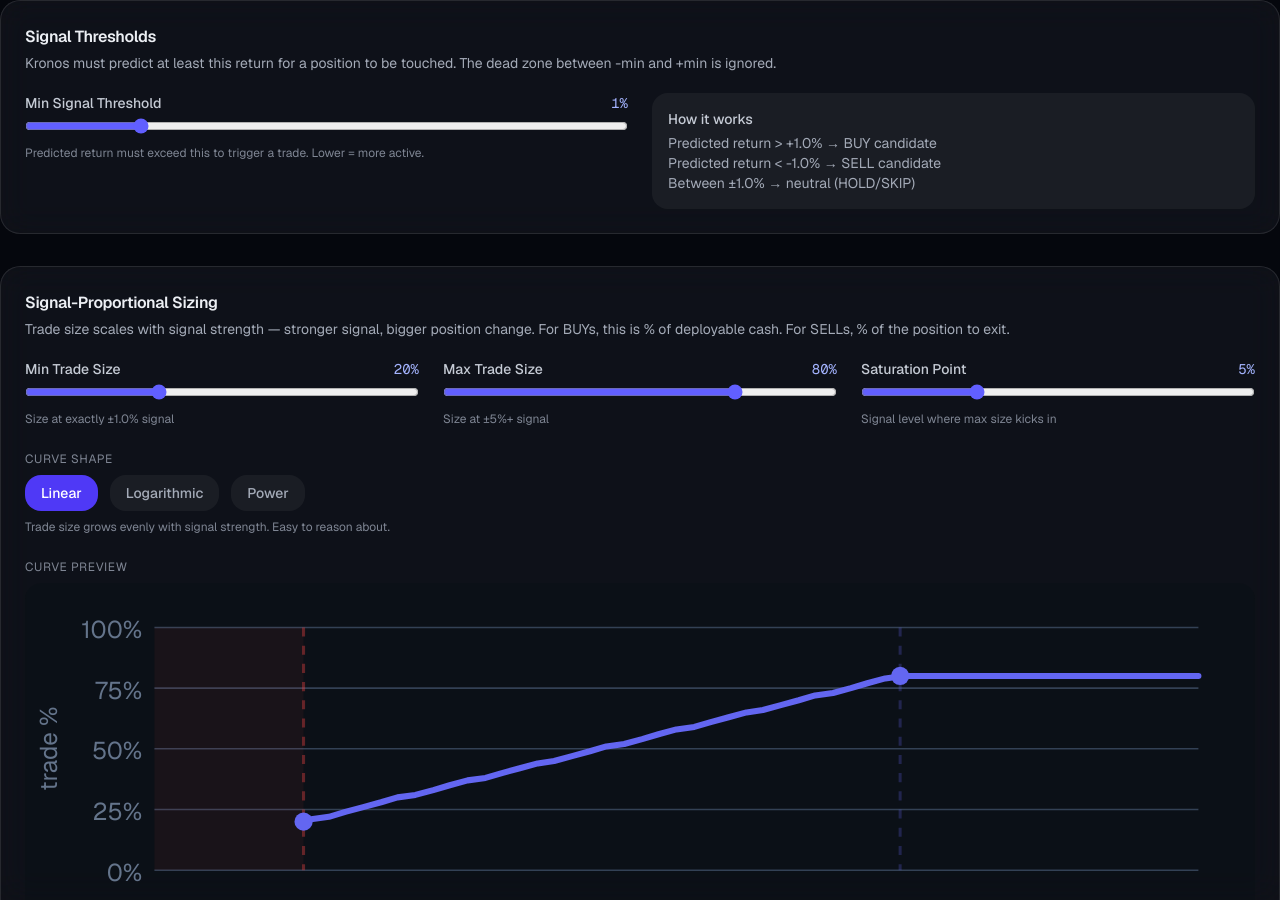
Test: KronosTunePanel › curve type buttons toggle correctly
# Click Power button
Click the button "Power" at (268, 493), box [231, 475, 305, 511]
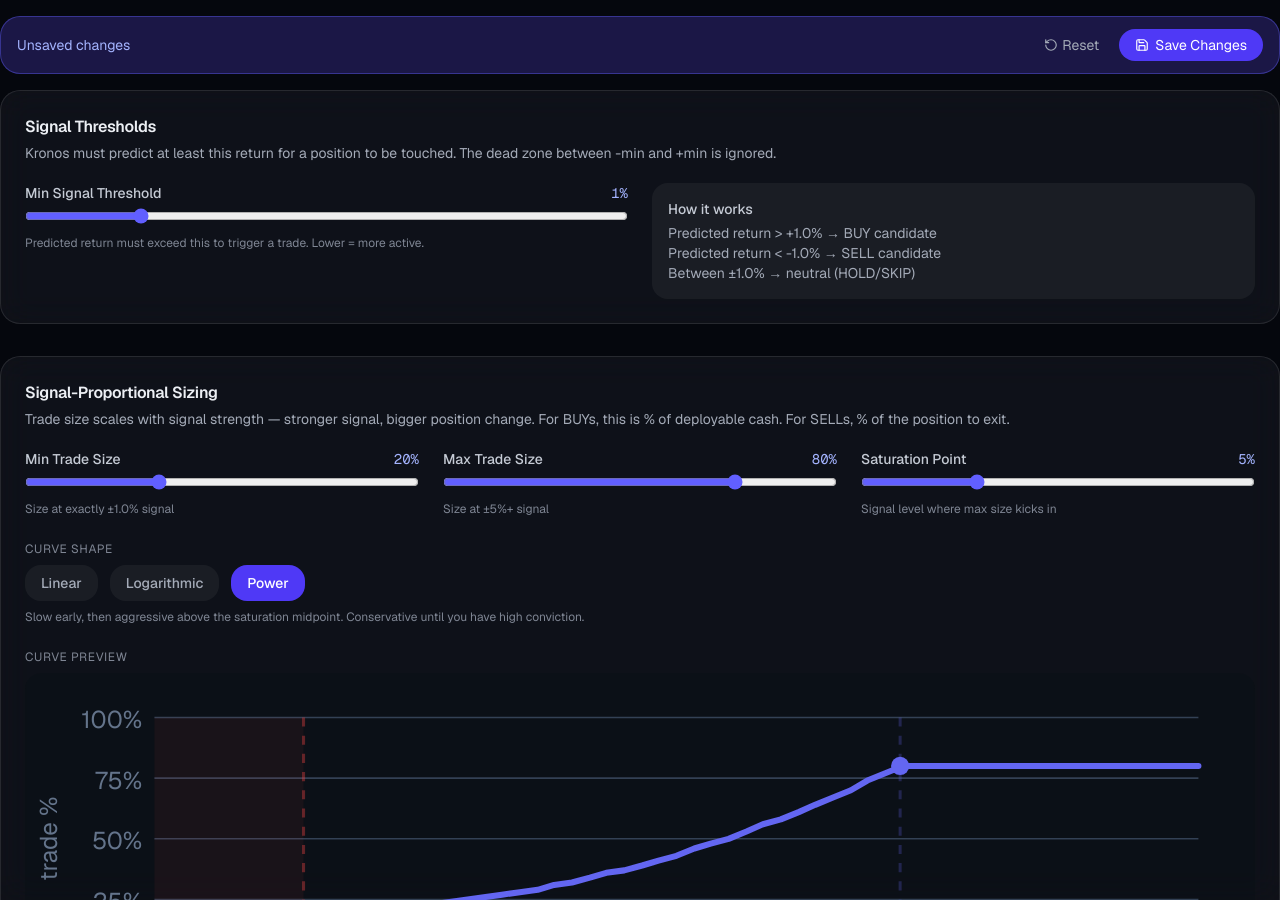
Expected: the text "Conservative until you have high conviction" is shown, [25, 609, 584, 625]
